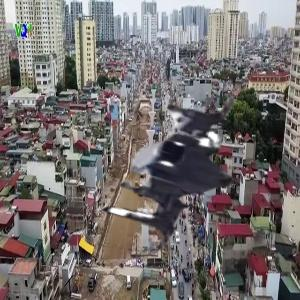drone: (79, 68, 281, 270)
